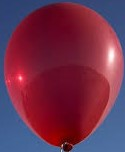Balloon: (4, 2, 123, 146)
